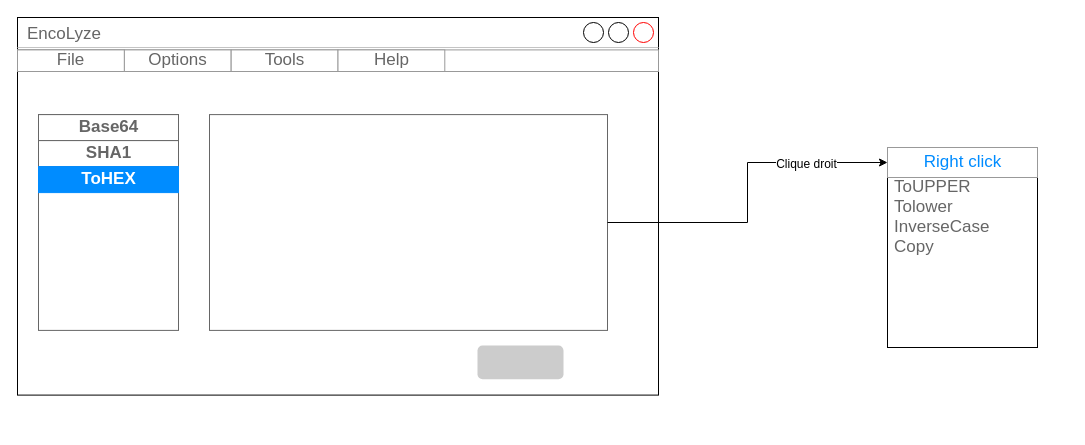
This 1085x445 diagram has some shape labels left out. Each missing label, with the centre of its shape:
Apply: point 520,362
Text: point 408,222
